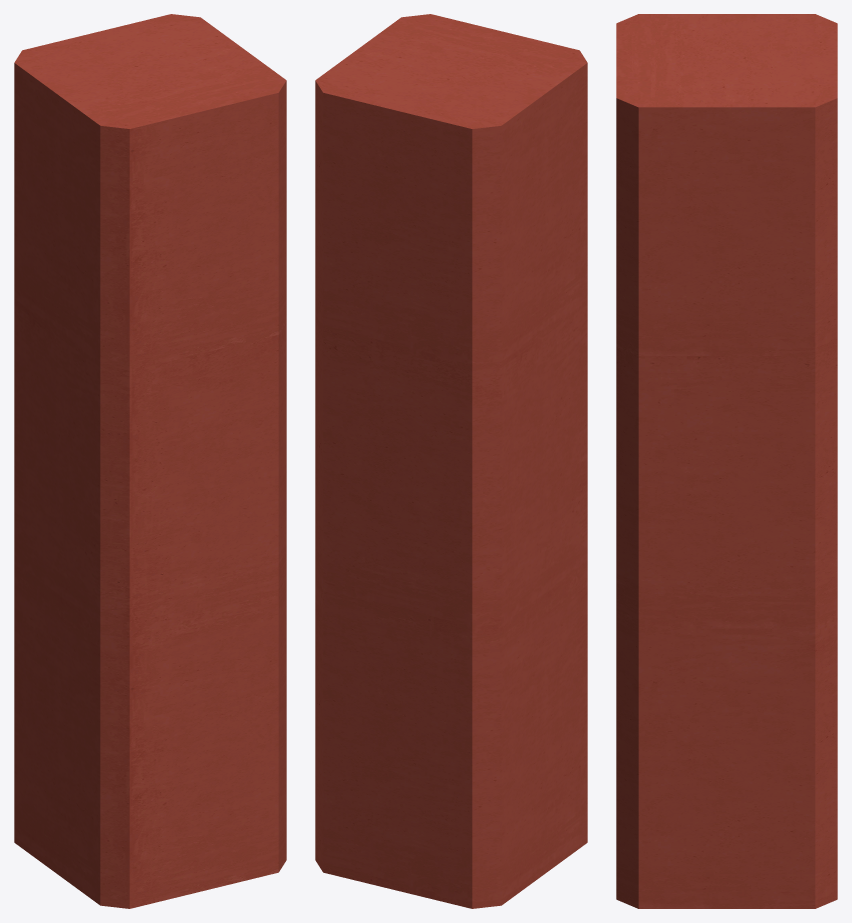
File: SM_dev_pillar_100_x_400.fbx
3 renders of one model, left to right at view 1: azimuth 30°, elevation 25°; view 2: azimuth 150°, elevation 25°; view 3: azimuth 270°, elevation 25°, orthographic. The views are drawn at different scales.
Parts seen in each view (by area): view 1: pCube12; view 2: pCube12; view 3: pCube12.
Part boxes in pixels (bbox=[...]): pCube12: bbox=[14, 14, 286, 908]; pCube12: bbox=[315, 14, 587, 908]; pCube12: bbox=[616, 14, 837, 908].
Bounding box in the file's own units: 1 × 4 × 1.
